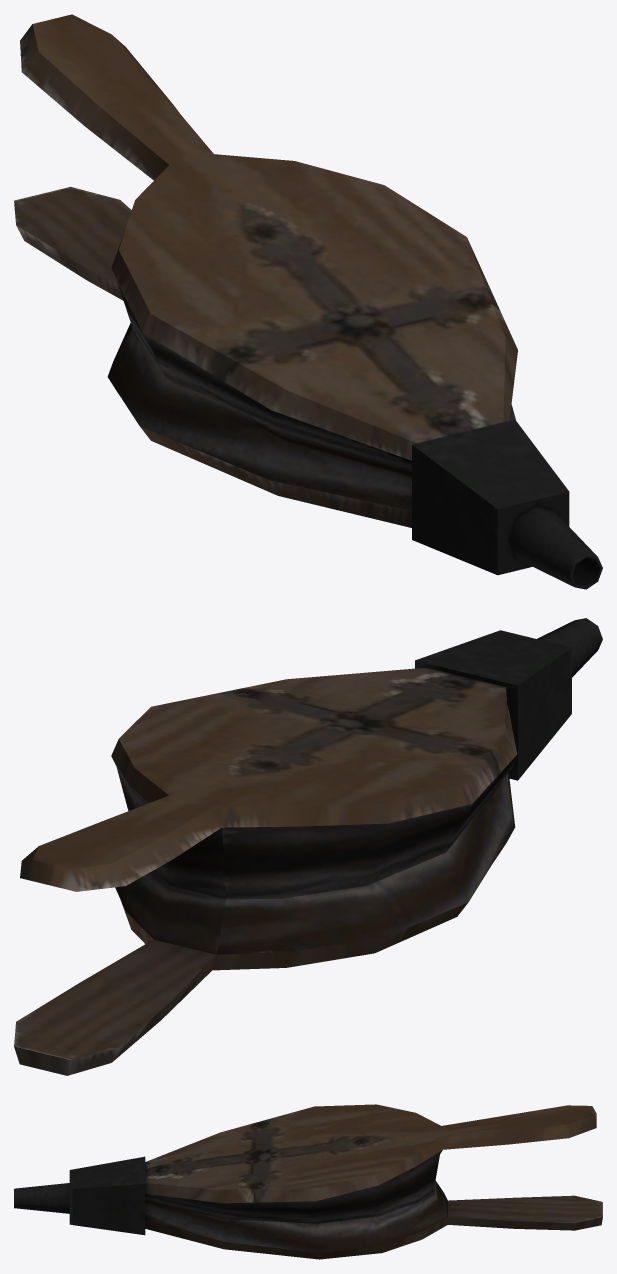
File: bellows.dae
The picture shows the model from 3 angles, top to bottom: view 1: azimuth 30°, elevation 25°; view 2: azimuth 150°, elevation 25°; view 3: azimuth 270°, elevation 25°; orthographic projection. The views are drawn at different scales.
Visible parts, largest first — view 1: polySurface1; view 2: polySurface1; view 3: polySurface1.
Part boxes in pixels (x1,y1,x2,y2): polySurface1: [14, 14, 602, 589]; polySurface1: [14, 618, 602, 1075]; polySurface1: [14, 1104, 602, 1259].
Bounding box in the file's own units: 0.264 × 0.1569 × 0.7541.
